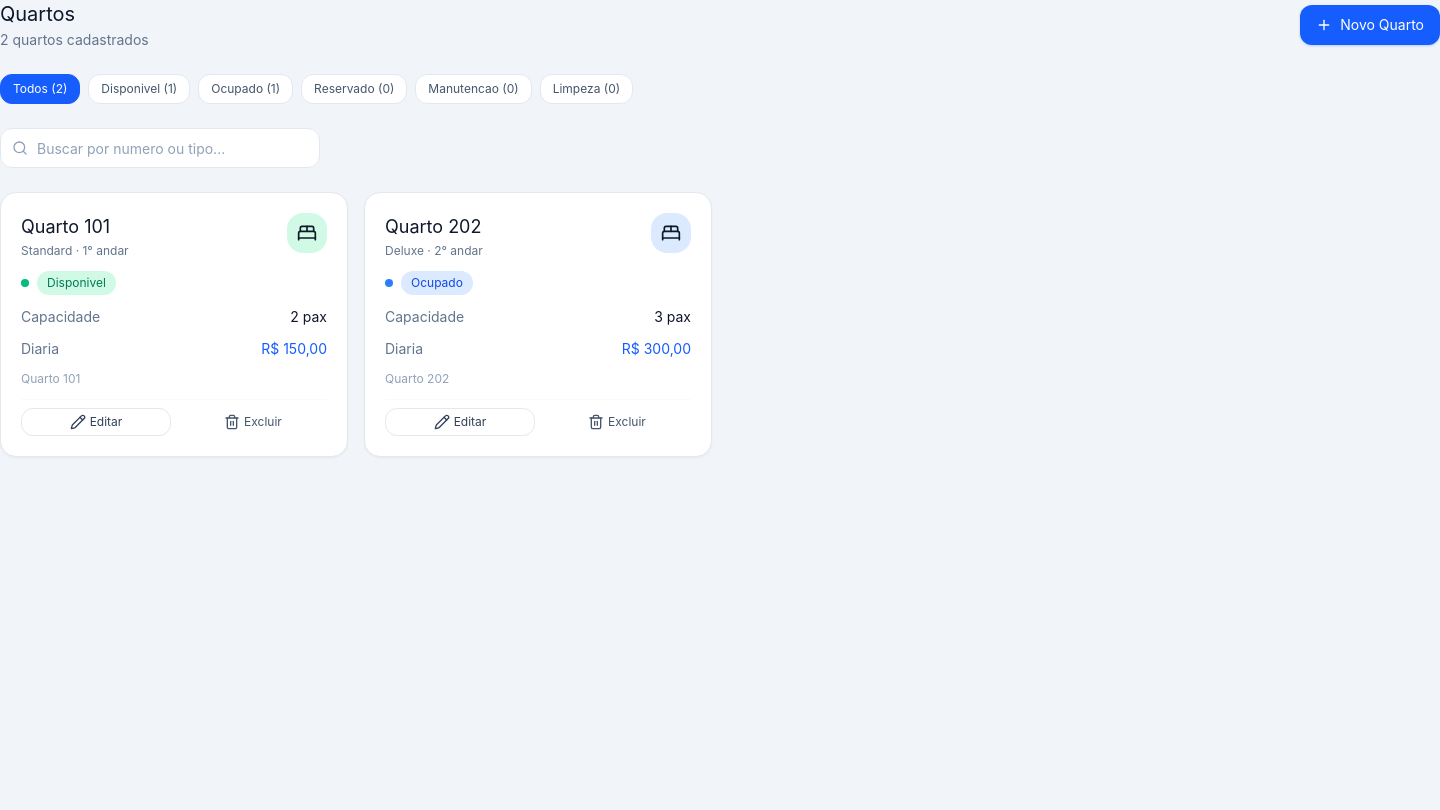
Scenario: Quartos page › opens new room modal on button click
The image size is (1440, 810).
Click the button "Novo Quarto" at coordinates (1370, 25), box [1300,5,1439,45]
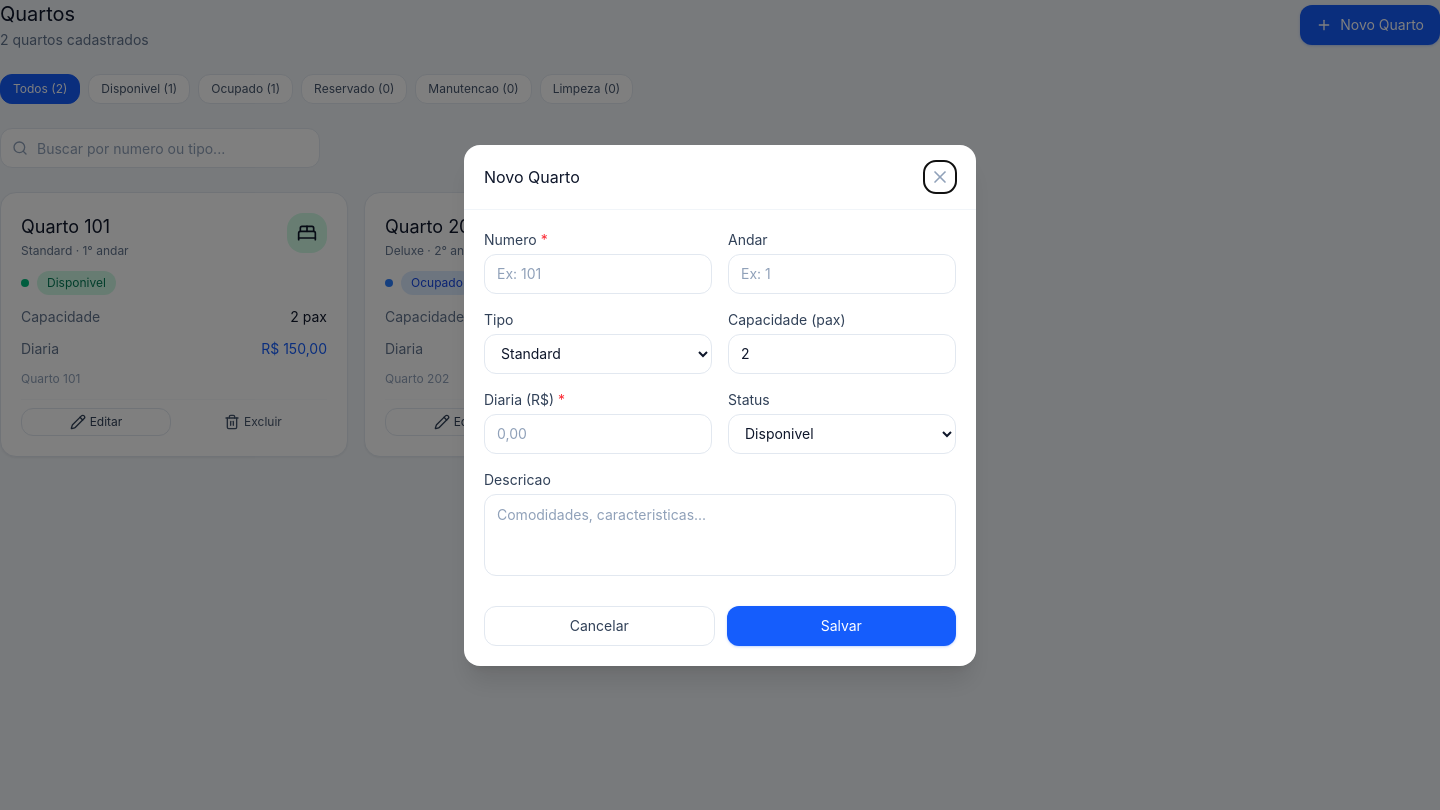
Expected: the button "Salvar" is shown, [726,606,956,646]
